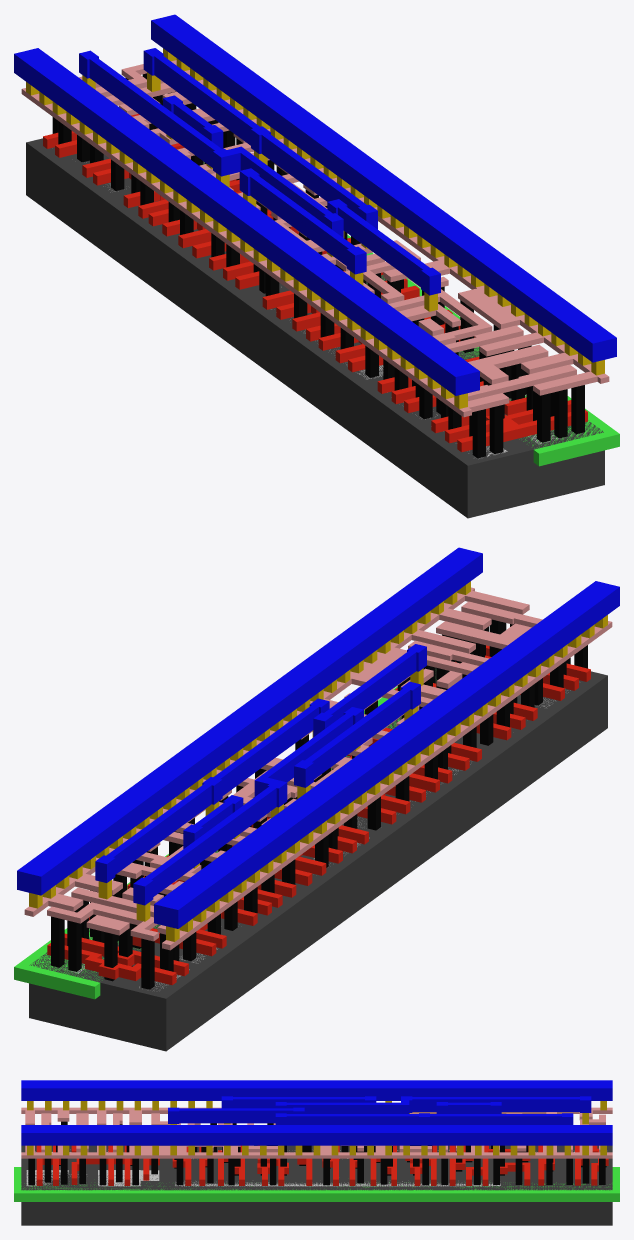
File: sky130_fd_sc_hd__sdfbbn_2.obj
3 renders of one model, top to bottom at view 1: azimuth 30°, elevation 25°; view 2: azimuth 150°, elevation 25°; view 3: azimuth 270°, elevation 25°, orthographic. The views are drawn at different scales.
Visible parts, largest first — view 1: metal1, subs, li, licon, poly, mcon, nwell; view 2: metal1, subs, li, licon, poly, mcon, nwell; view 3: metal1, subs, nwell, li, poly, licon, mcon, tap.
Part boxes in pixels (x1,y1,x2,y2): metal1: (14,14,616,395); subs: (26,138,604,518); li: (21,60,609,417); licon: (52,73,584,458); poly: (43,114,587,452); mcon: (26,48,604,408); nwell: (203,162,619,466); metal1: (17,547,619,928); subs: (29,668,607,1051); li: (24,587,612,950); licon: (51,619,587,989); poly: (47,645,590,985); mcon: (29,581,607,941); nwell: (14,679,436,999); metal1: (21,1080,612,1145); subs: (21,1145,612,1225); nwell: (14,1167,619,1201); li: (21,1107,612,1158); poly: (36,1145,608,1185); licon: (28,1121,606,1185); mcon: (27,1101,606,1155); tap: (26,1170,500,1186).
Bounding box in the file's own units: 3.2 × 2.74 × 15.56.
